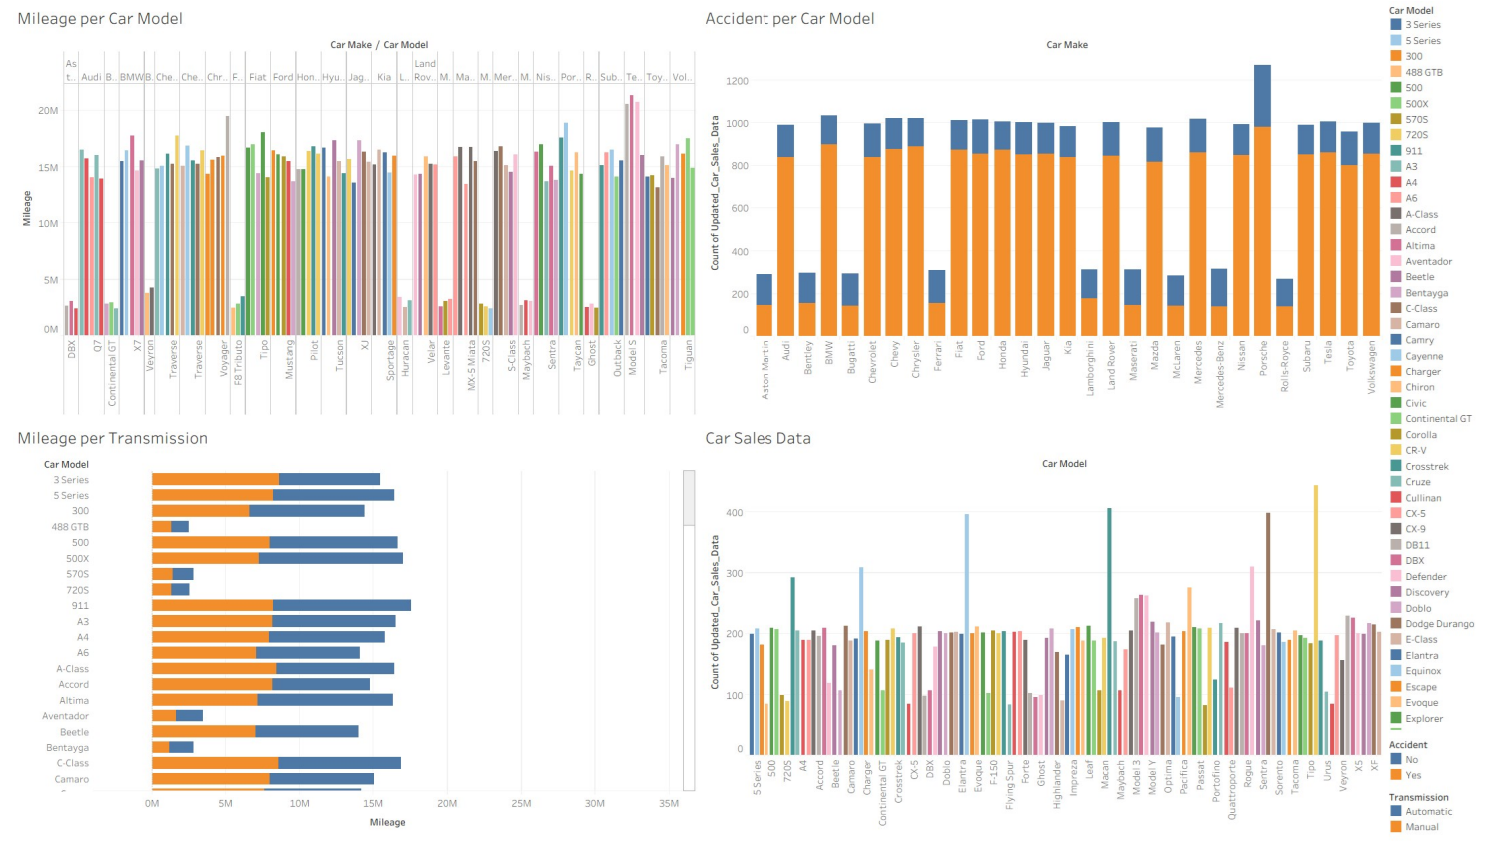

What the dashboard file says about the page in this screenshot:
{"tool":"tableau","page":{"name":"Dashboard 1","canvas":[1000,1000],"units":"permille","ordinal":0},"visuals":[{"type":"worksheet","title":"Mileage per Car Model","mark":"Automatic","rows":["Mileage"],"cols":["Car Make","Car Model"],"box":[4.2,6.6,454.1,493.4]},{"type":"worksheet","title":"Accident per Car Model","mark":"Automatic","rows":["Updated!Car!Sales!Data_BB55E93B72FE4B68A55A1710C375A880"],"cols":["Car Make"],"box":[458.3,6.6,454.2,493.4]},{"type":"legend","title":"Mileage per Car Model","param":"[federated.1jehenu1f7y06y1gijzu40fz40iq].[none:Car Model:nk]","box":[912.5,6.6,83.3,878.4]},{"type":"worksheet","title":"Mileage per Transmission","mark":"Automatic","rows":["Car Model"],"cols":["Mileage"],"box":[4.2,500,454.2,493.4]},{"type":"worksheet","title":"Car Sales Data","mark":"Automatic","rows":["Updated!Car!Sales!Data_BB55E93B72FE4B68A55A1710C375A880"],"cols":["Car Model"],"box":[458.3,500,454.2,493.4]},{"type":"legend","title":"Accident per Car Model","param":"[federated.1jehenu1f7y06y1gijzu40fz40iq].[none:Accident:nk]","box":[912.5,885,83.3,54.2]},{"type":"legend","title":"Mileage per Transmission","param":"[federated.1jehenu1f7y06y1gijzu40fz40iq].[none:Transmission:nk]","box":[912.5,939.2,83.3,54.2]}]}

Visuals, with their boxes on the dashboard's canvas, which has no fixed pixel size, in thousandths of its width and height (x1, y1, x2, y2). These are canvas units, not pixel positions in the 1497x844 screenshot, which may show the page scaled, cropped or inside an application window:
"Mileage per Car Model" worksheet: bbox(4, 7, 458, 500)
"Accident per Car Model" worksheet: bbox(458, 7, 912, 500)
"Mileage per Car Model" legend: bbox(912, 7, 996, 885)
"Mileage per Transmission" worksheet: bbox(4, 500, 458, 993)
"Car Sales Data" worksheet: bbox(458, 500, 912, 993)
"Accident per Car Model" legend: bbox(912, 885, 996, 939)
"Mileage per Transmission" legend: bbox(912, 939, 996, 993)
